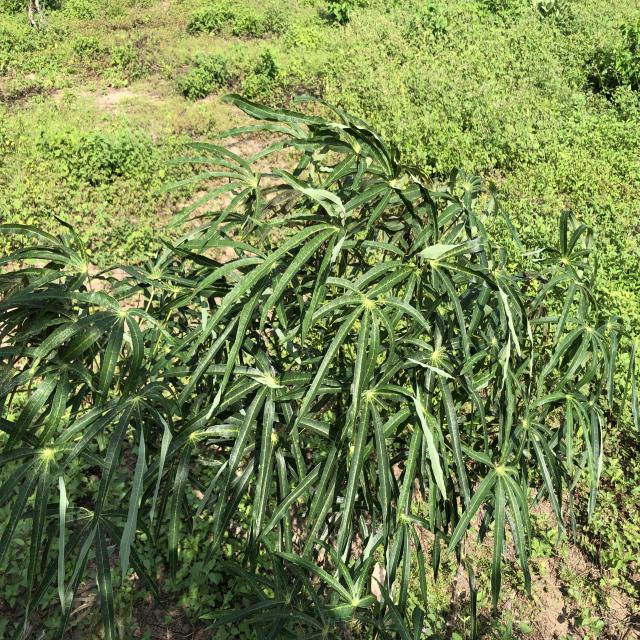Maleza: (0, 0, 171, 216), (102, 3, 386, 101), (400, 0, 559, 164), (515, 0, 637, 204)
Mosca: (516, 429, 543, 448), (73, 468, 92, 486), (79, 316, 103, 329), (48, 369, 64, 385), (282, 605, 299, 618), (154, 364, 167, 377)
